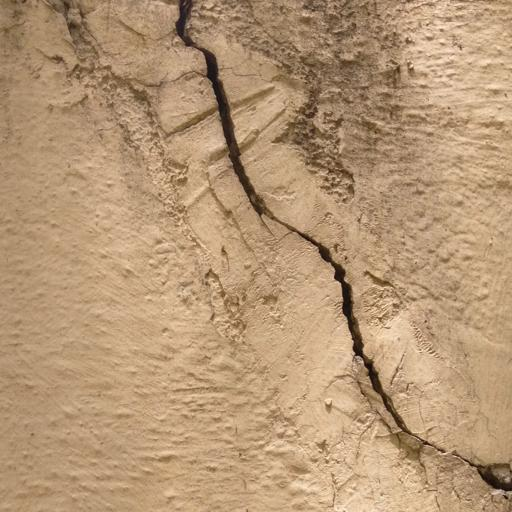major_crack: (167, 0, 512, 484)
